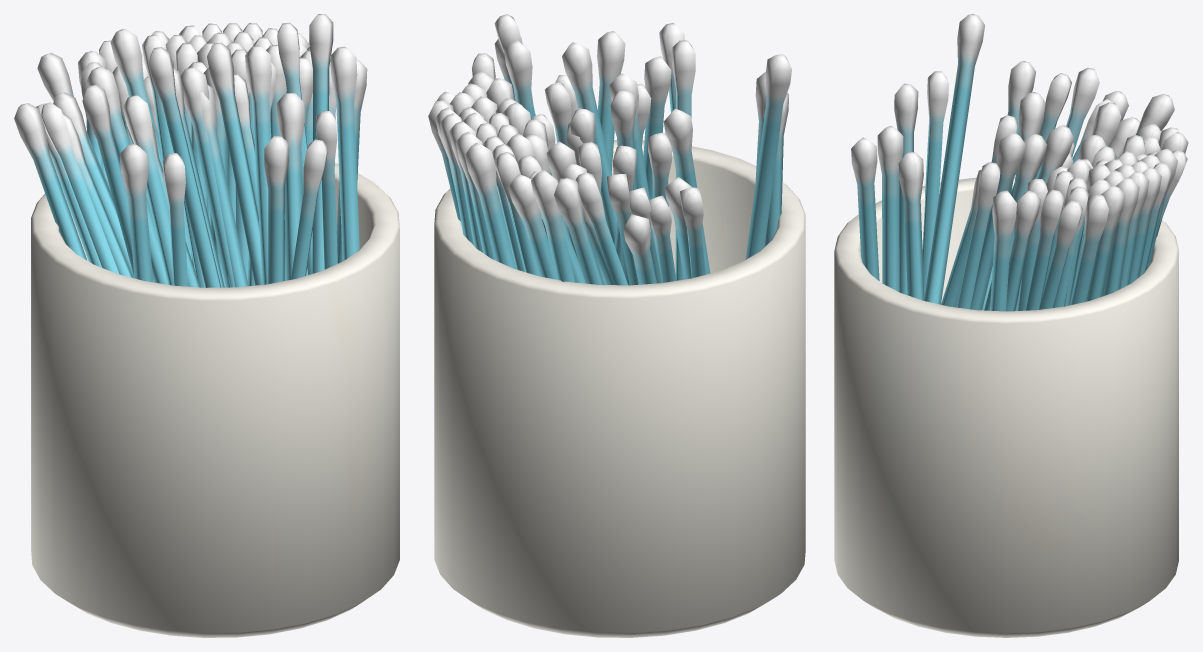
File: cotton_swabs.glb
3 views of the same model, side by side, from view 1: azimuth 30°, elevation 25°; view 2: azimuth 150°, elevation 25°; view 3: azimuth 270°, elevation 25° (orthographic). The views are drawn at different scales.
Visible parts, largest first — view 1: Cotton_swabs; view 2: Cotton_swabs; view 3: Cotton_swabs.
Part boxes in pixels (x1,y1,x2,y2): Cotton_swabs: [14, 14, 399, 637]; Cotton_swabs: [428, 14, 805, 637]; Cotton_swabs: [834, 14, 1188, 637].
Bounding box in the file's own units: 0.2 × 0.315 × 0.2055.
Materials: 1 (1 with a texture image).
